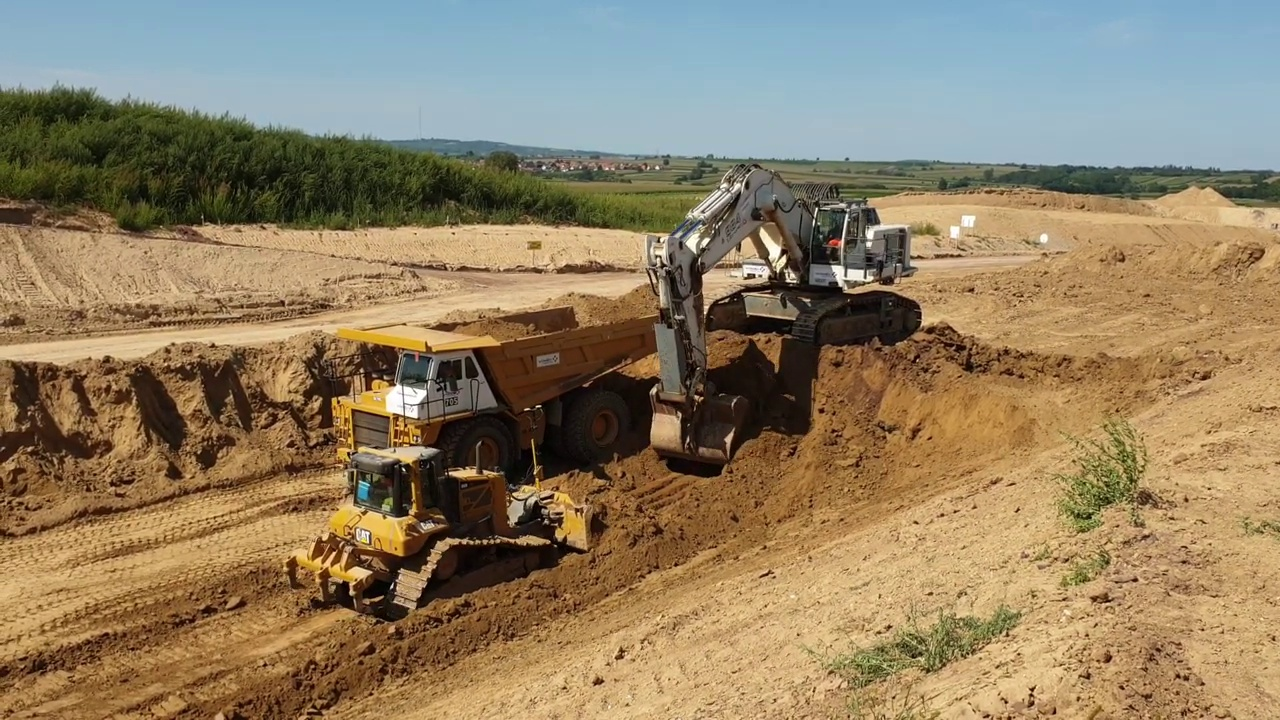bulldozer: (283, 403, 598, 620)
excavator: (640, 157, 926, 476)
truck: (322, 300, 666, 499)
